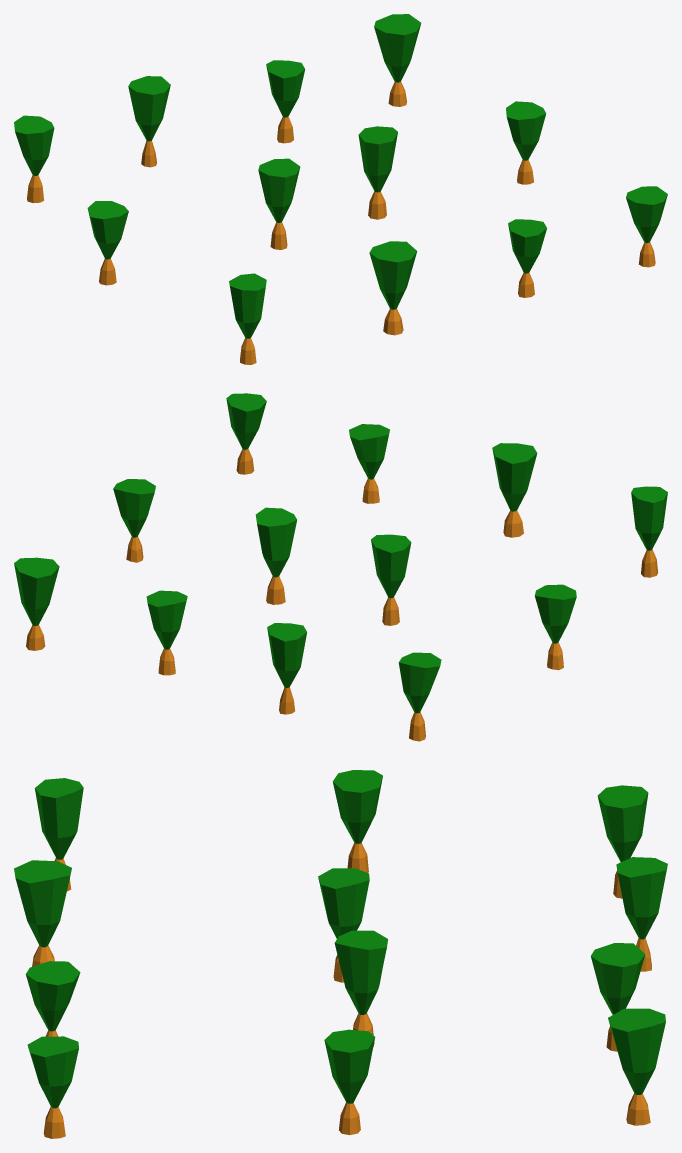
File: Carot_Step2.fbx
The picture shows the model from 3 angles, top to bottom: view 1: azimuth 30°, elevation 25°; view 2: azimuth 150°, elevation 25°; view 3: azimuth 270°, elevation 25°; orthographic projection. The views are drawn at different scales.
Visible parts, largest first — view 1: Save_Karotte_1.001; view 2: Save_Karotte_1.001; view 3: Save_Karotte_1.001.
Part boxes in pixels (box(x1,y1,x2,y2)): Save_Karotte_1.001: box(14, 14, 667, 364); Save_Karotte_1.001: box(14, 393, 667, 741); Save_Karotte_1.001: box(14, 770, 667, 1138).
Size of the model in its own units: 78.58 by 14.44 by 81.47.
